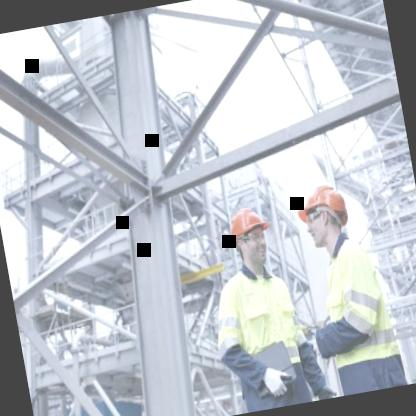helmet: (289, 172, 357, 252), (220, 195, 279, 272)
